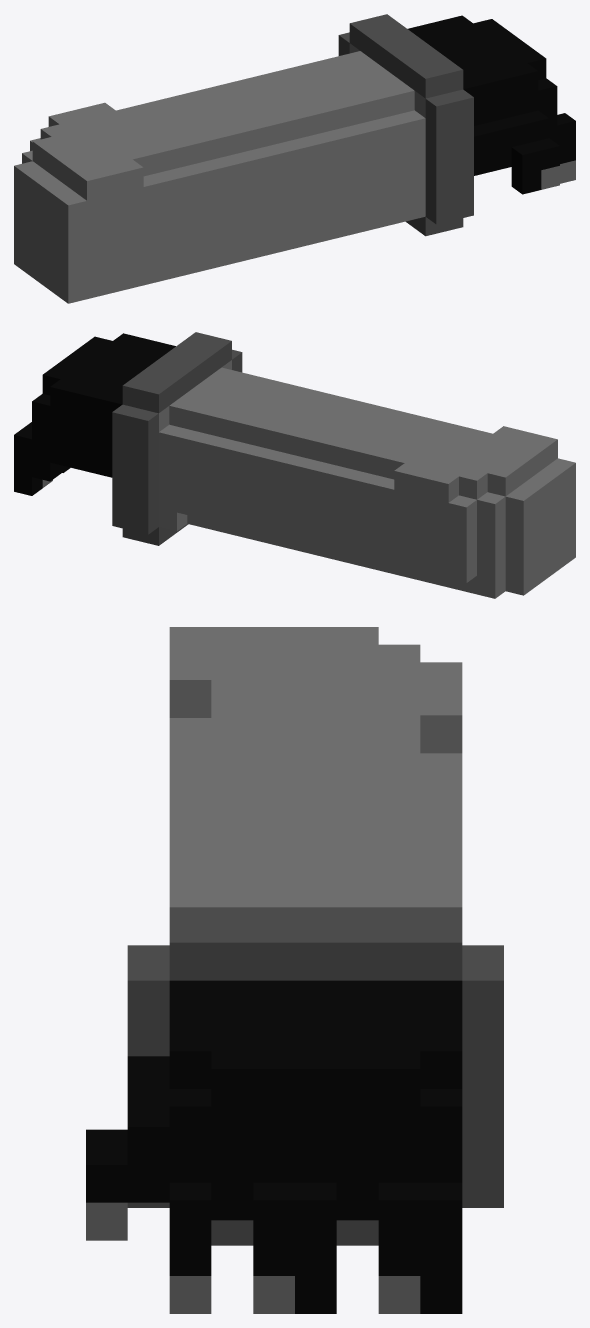
The model's file is burov-1.obj.
3 renders of one model, top to bottom at view 1: azimuth 30°, elevation 25°; view 2: azimuth 150°, elevation 25°; view 3: azimuth 270°, elevation 25°, orthographic. The views are drawn at different scales.
Size of the model in its own units: 2.7 by 0.8 by 1.
1 material, 1 textured.
